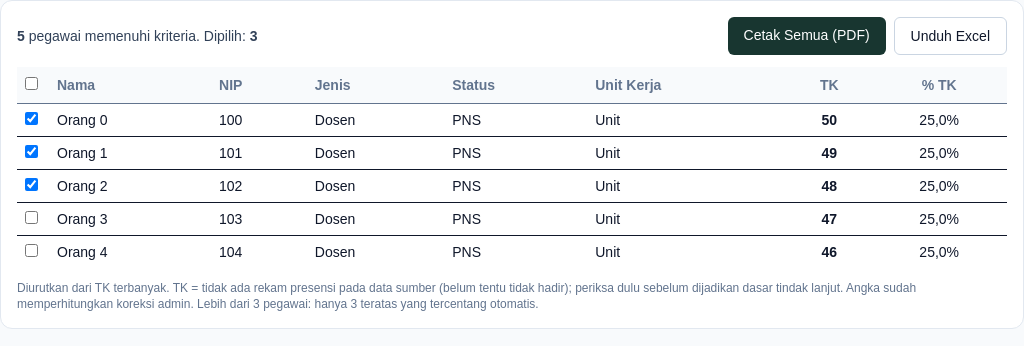
Scenario: PilihanMassal › mencentang melebihi batas menonaktifkan tombol; tanpa pilihan juga nonaktif
Click the checkbox named "Pilih Orang 3": (32, 218) x1=25 y1=211 x2=38 y2=224
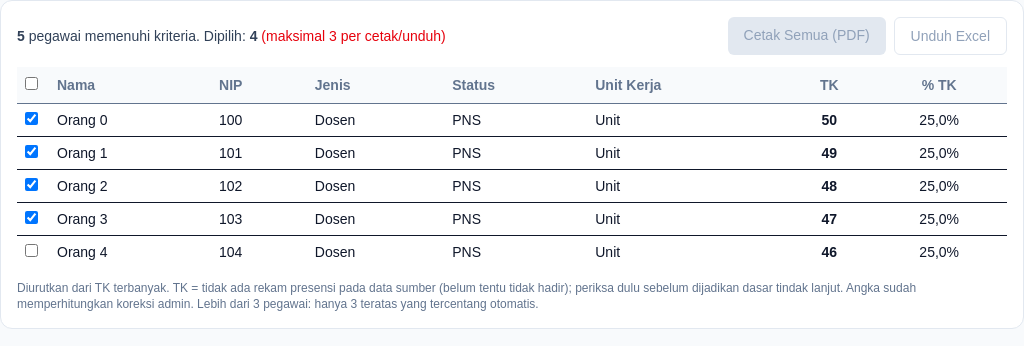
Click the checkbox named "Pilih Orang 4": (32, 250) x1=25 y1=244 x2=38 y2=257
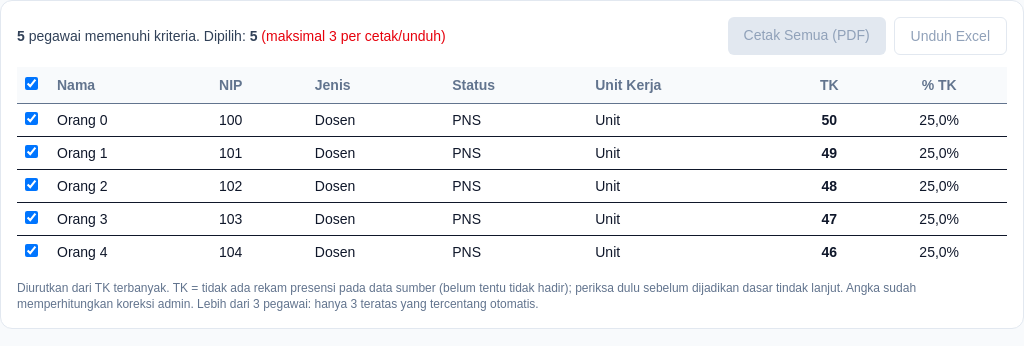
Result: the text "(maksimal 3 per cetak/unduh)" is shown at x1=258 y1=28 x2=446 y2=44
Click the checkbox named "Pilih semua": (32, 84) x1=25 y1=77 x2=38 y2=90
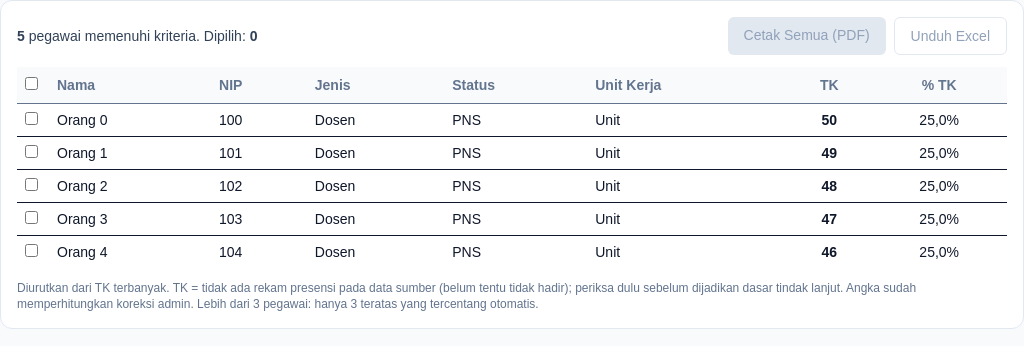
Result: the text "Dipilih:" shows "Dipilih: 0" at x1=17 y1=26 x2=258 y2=46
